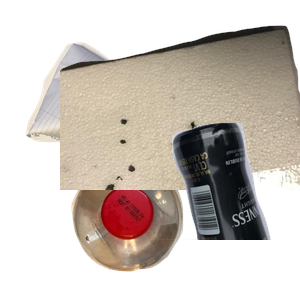glass: (106, 120, 300, 300)
paper: (23, 40, 223, 180)
plastic: (69, 161, 245, 300)
trash: (60, 23, 300, 203)
